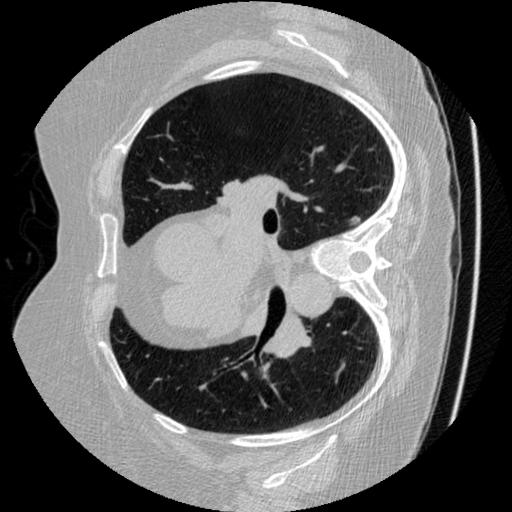nodule: (349, 213, 362, 226)
